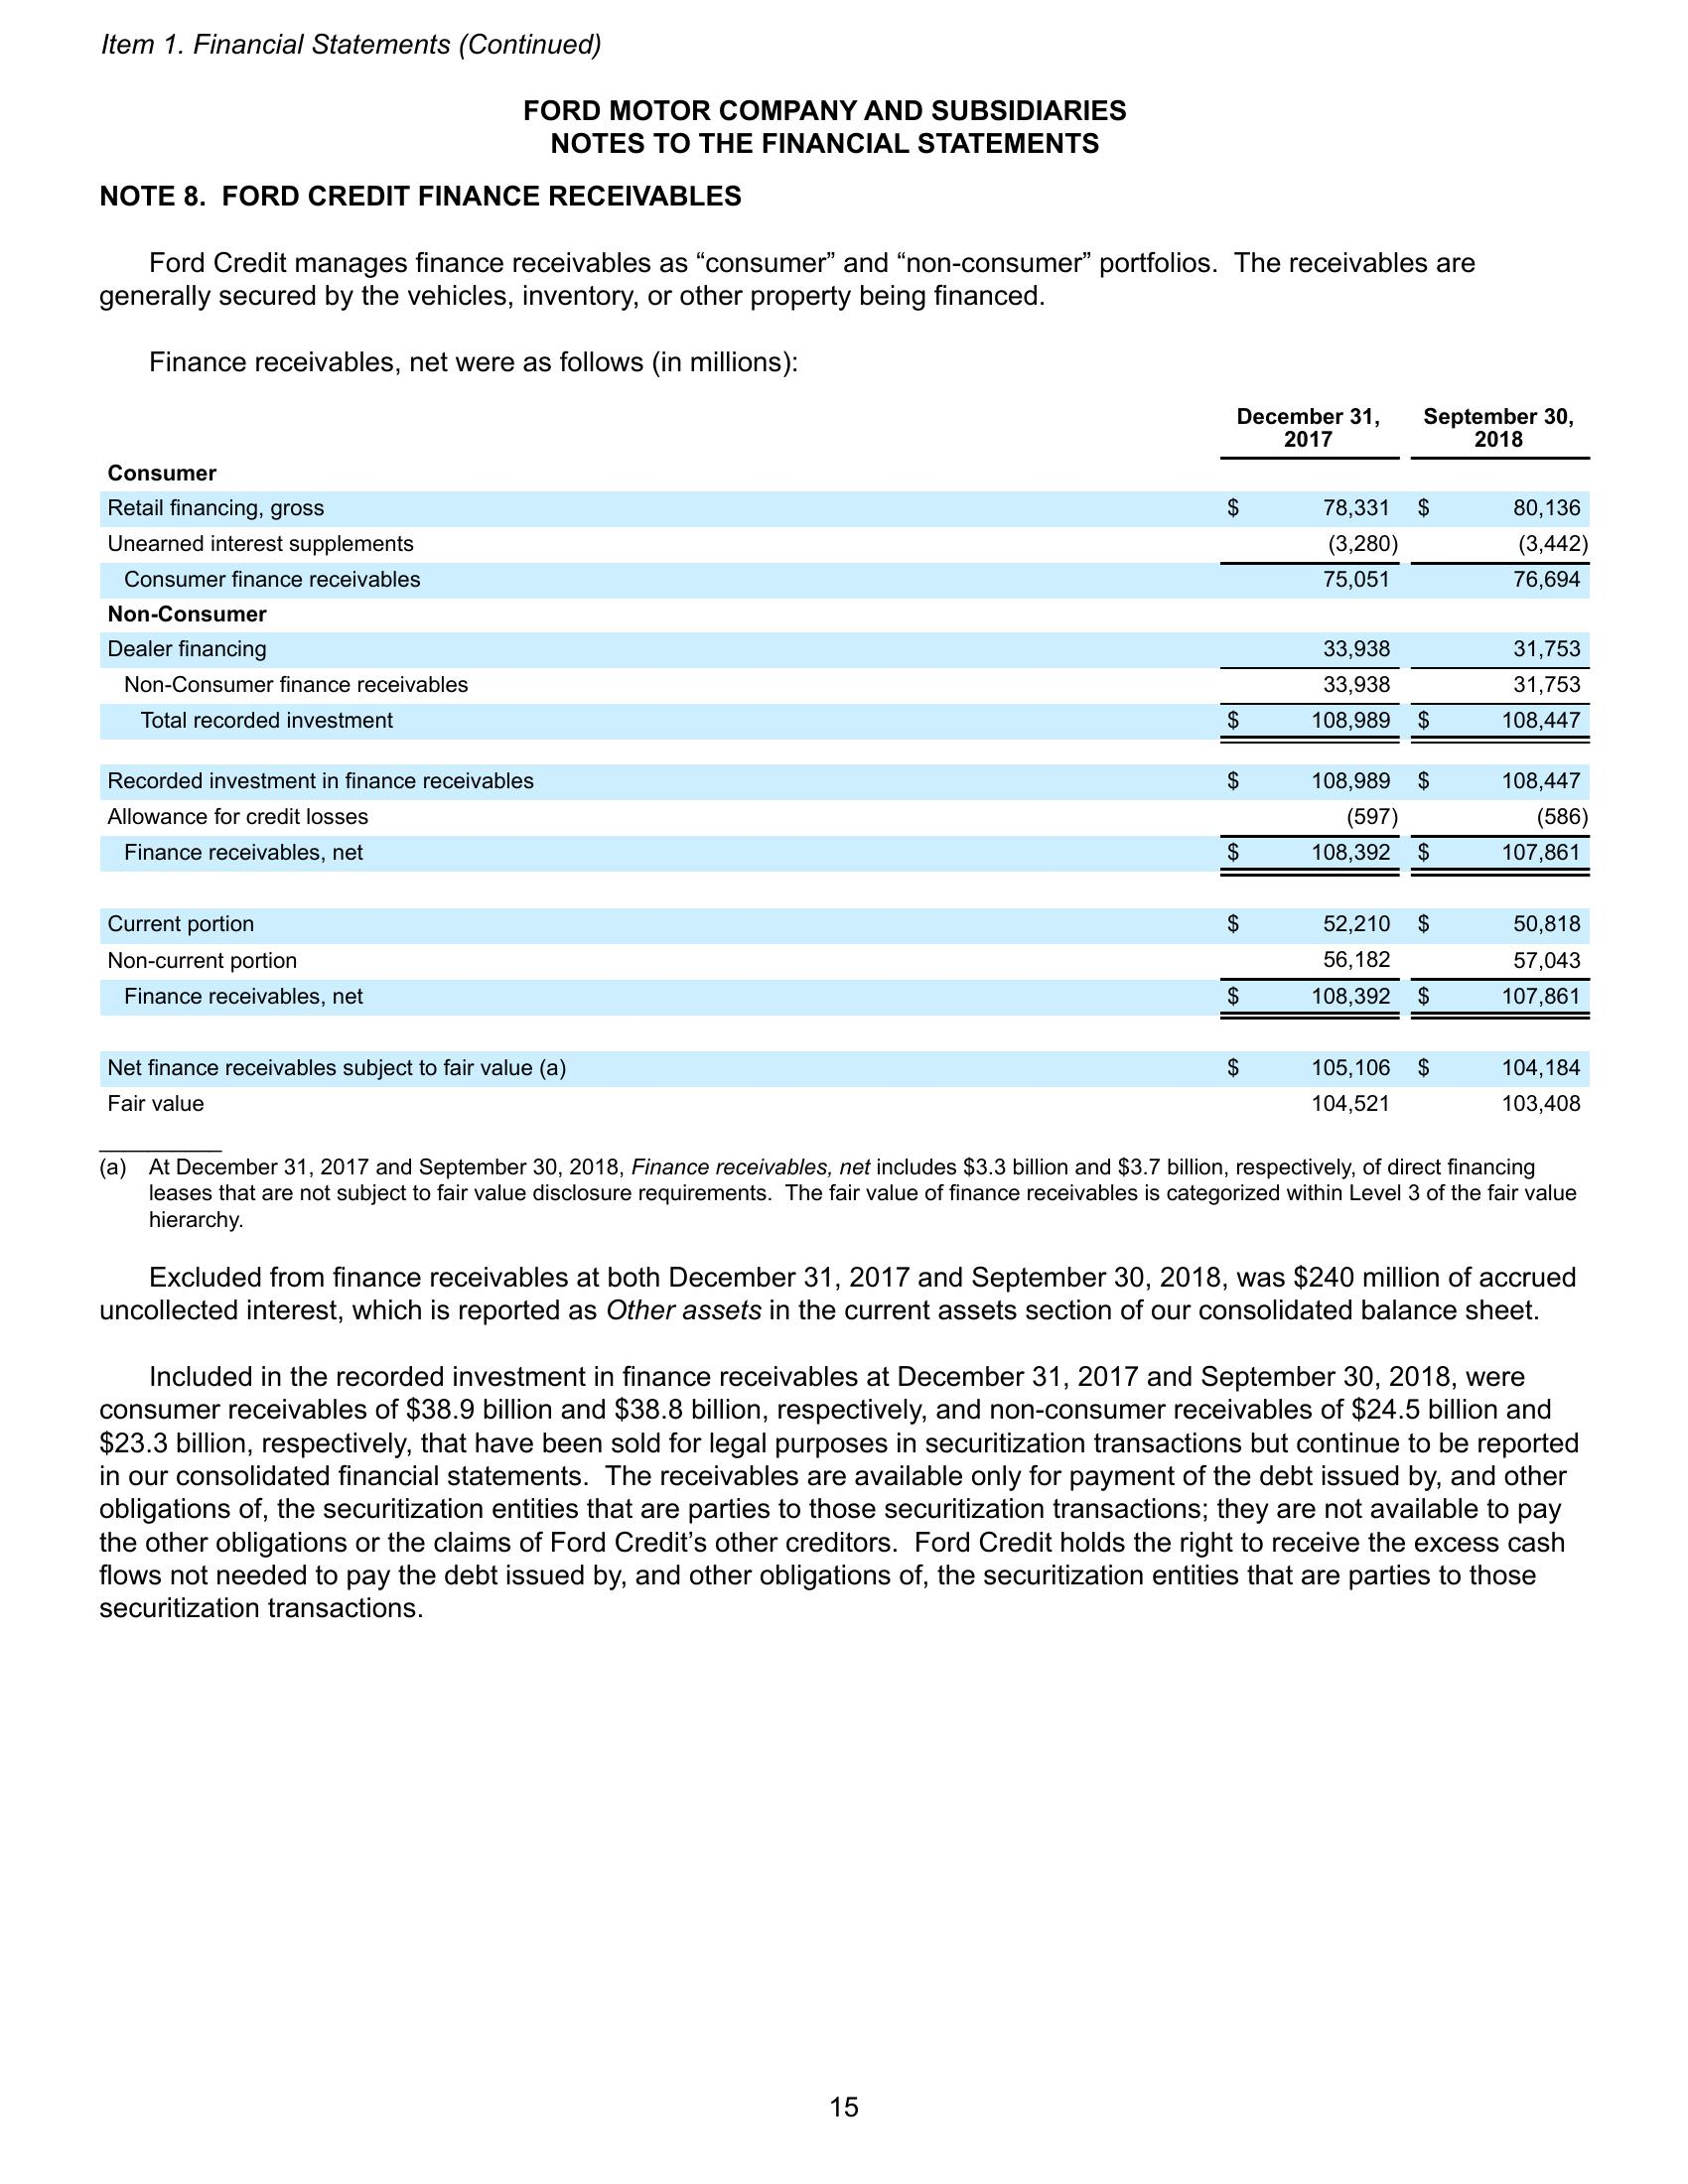table: (94, 395, 1594, 1119)
